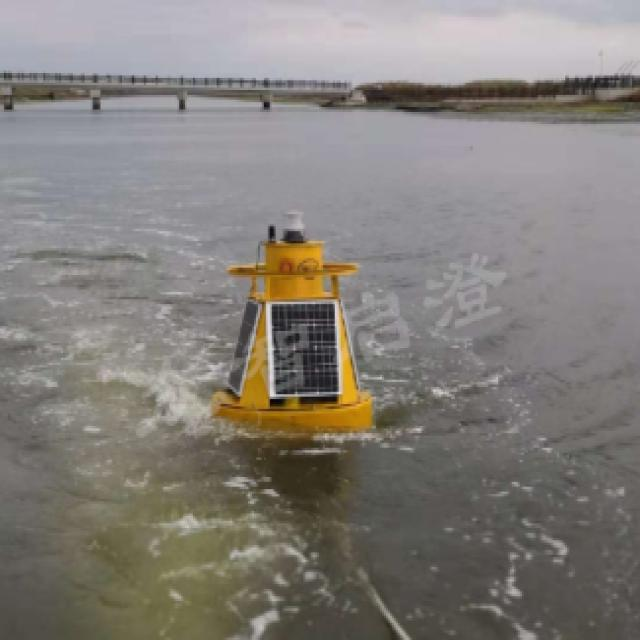buoy: (211, 203, 377, 434)
